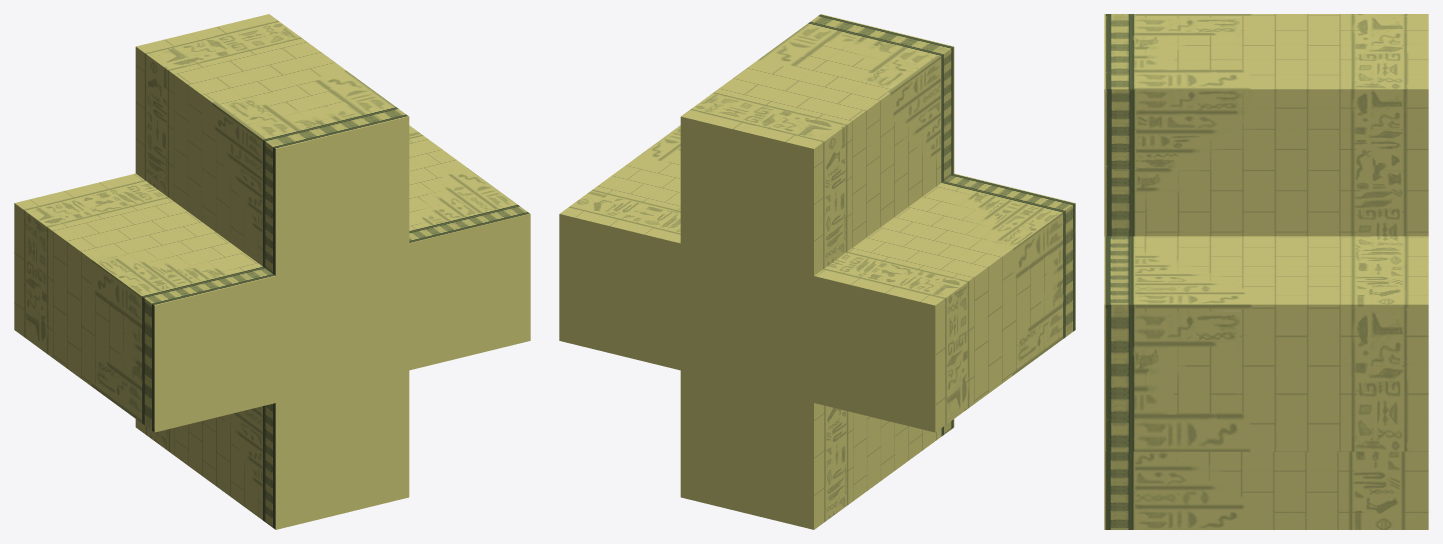
File: Wand _Kreuz.fbx
3 views of the same model, side by side, from view 1: azimuth 30°, elevation 25°; view 2: azimuth 150°, elevation 25°; view 3: azimuth 270°, elevation 25° (orthographic). The views are drawn at different scales.
Visible parts, largest first — view 1: Cube; view 2: Cube; view 3: Cube.
Boxes of the visible parts, x1=… form: Cube: x1=14, y1=14, x2=530, y2=529; Cube: x1=559, y1=14, x2=1075, y2=529; Cube: x1=1104, y1=14, x2=1428, y2=529.
Size of the model in its own units: 3.1 by 3 by 2.
Materials: 1 (1 with a texture image).
